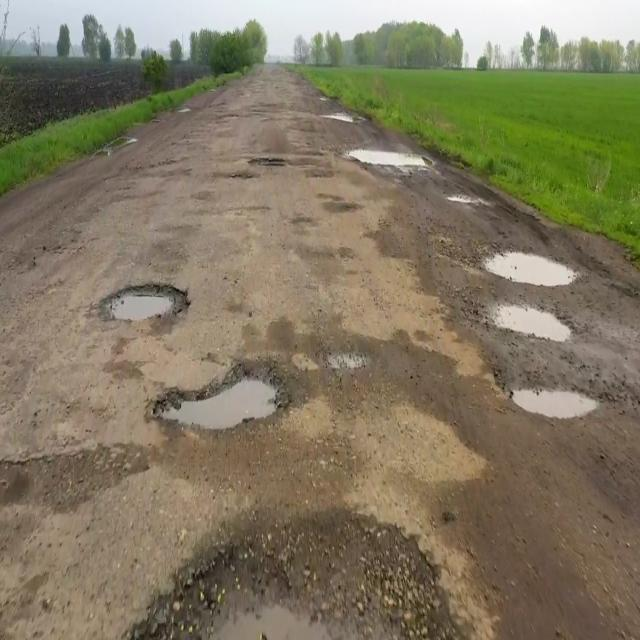road-pothole: (146, 530, 445, 640), (154, 362, 288, 431), (510, 384, 604, 426), (490, 245, 576, 290), (492, 303, 574, 349), (102, 279, 180, 327), (347, 146, 429, 168), (445, 193, 494, 208), (327, 111, 369, 124), (255, 153, 285, 169)
